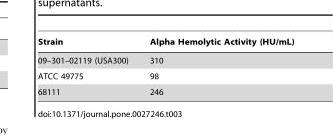table: (37, 37, 293, 96)
table column: (138, 37, 293, 96), (37, 37, 138, 96)
table column header: (37, 37, 293, 50)
table row: (37, 50, 293, 68), (37, 68, 293, 83), (37, 37, 293, 50), (37, 83, 293, 96)
